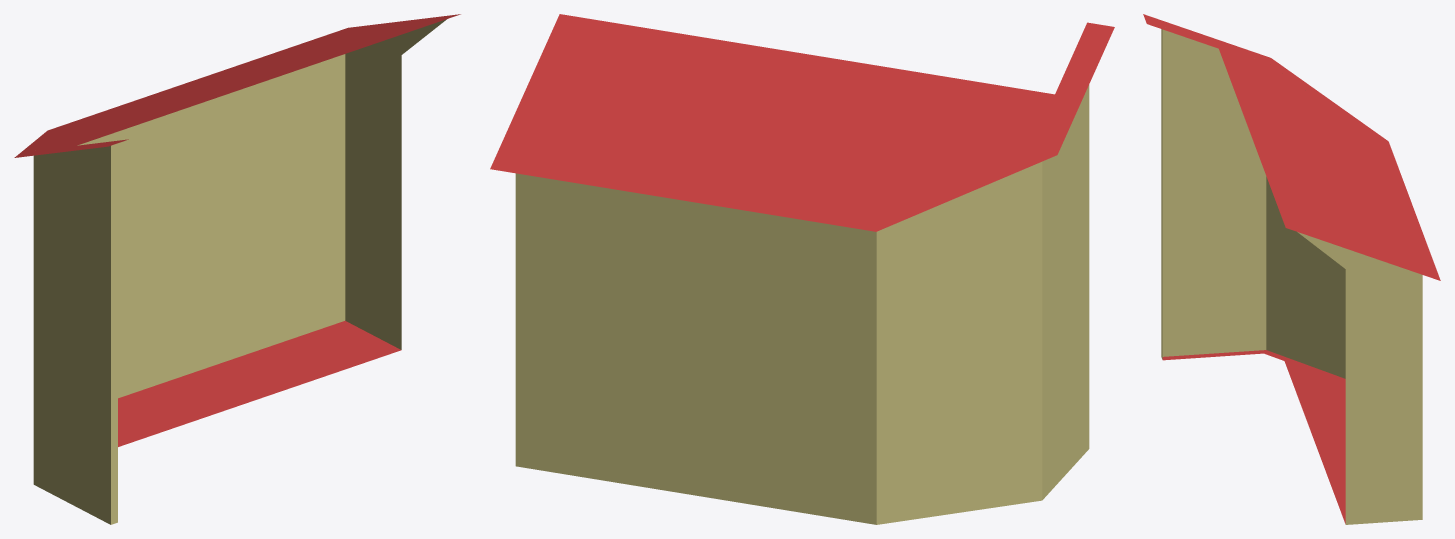
3 views of the same model, side by side, from view 1: azimuth 30°, elevation 25°; view 2: azimuth 150°, elevation 25°; view 3: azimuth 270°, elevation 25° (orthographic). The views are drawn at different scales.
Bounding box in the file's own units: 14.27 × 9.31 × 11.63.
